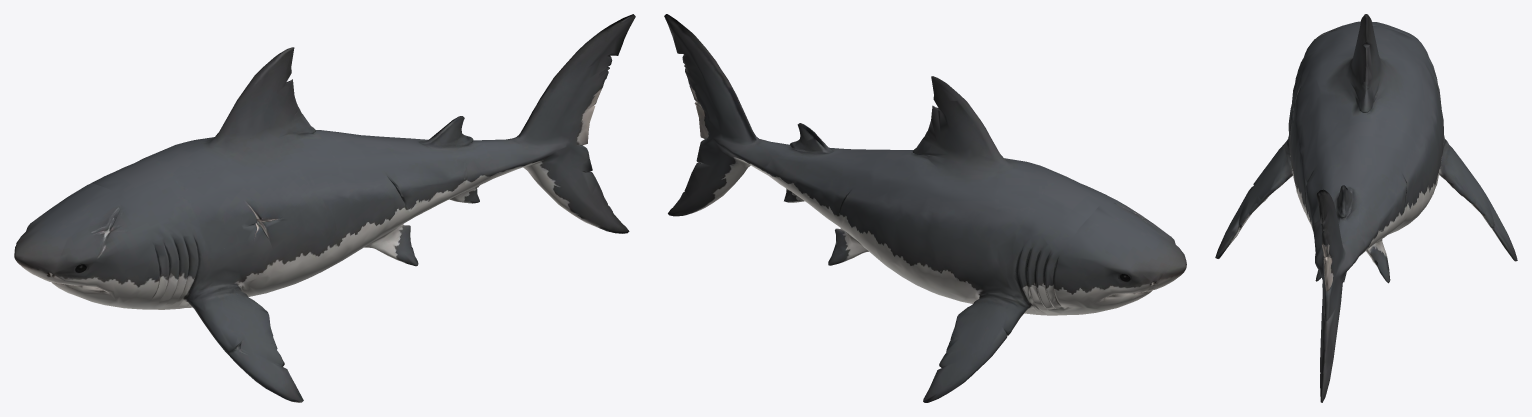
File: fish-belakula.glb
The picture shows the model from 3 angles, left to right: view 1: azimuth 30°, elevation 25°; view 2: azimuth 150°, elevation 25°; view 3: azimuth 270°, elevation 25°; orthographic projection. The views are drawn at different scales.
Parts seen in each view (by area): view 1: tripo_node_46e25d94-93cf-4195-a0f0-01bab7aa78bb; view 2: tripo_node_46e25d94-93cf-4195-a0f0-01bab7aa78bb; view 3: tripo_node_46e25d94-93cf-4195-a0f0-01bab7aa78bb.
Boxes of the visible parts, <box> form: tripo_node_46e25d94-93cf-4195-a0f0-01bab7aa78bb: <box>14,14,635,402</box>; tripo_node_46e25d94-93cf-4195-a0f0-01bab7aa78bb: <box>664,14,1186,402</box>; tripo_node_46e25d94-93cf-4195-a0f0-01bab7aa78bb: <box>1215,14,1517,402</box>.
Size of the model in its own units: 1 by 0.4571 by 0.4516.
Materials: 1 (1 with a texture image).
